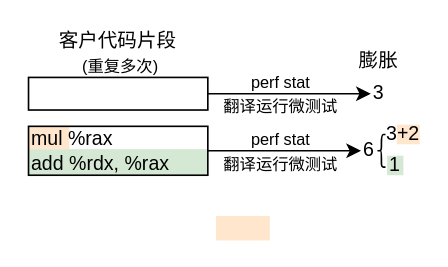
Image size: 448x267. Some labels were removed from this diagram. The shapes that lost their labels are listed below. From the top down, each one's centre as x and y in pixels, then its label:
At point 117,93: "mul %rax".
At point 242,227: "mul的语义: reg * %rax => %rdx:%rax".
